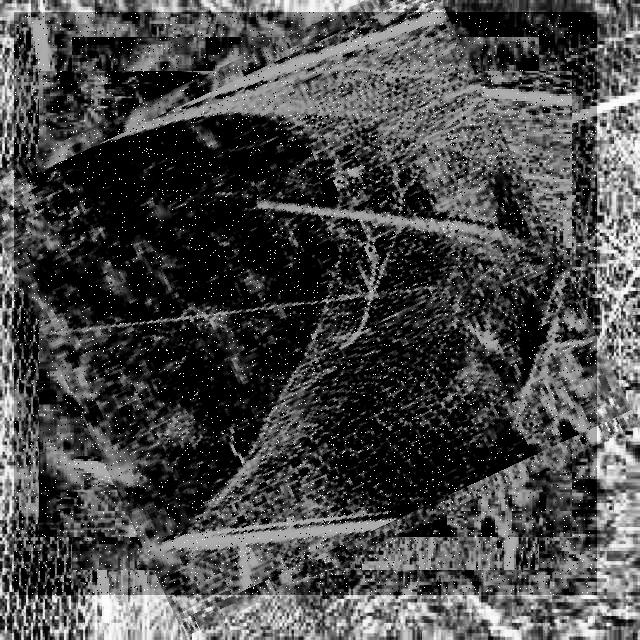anomaly-fence: (14, 12, 597, 595)
